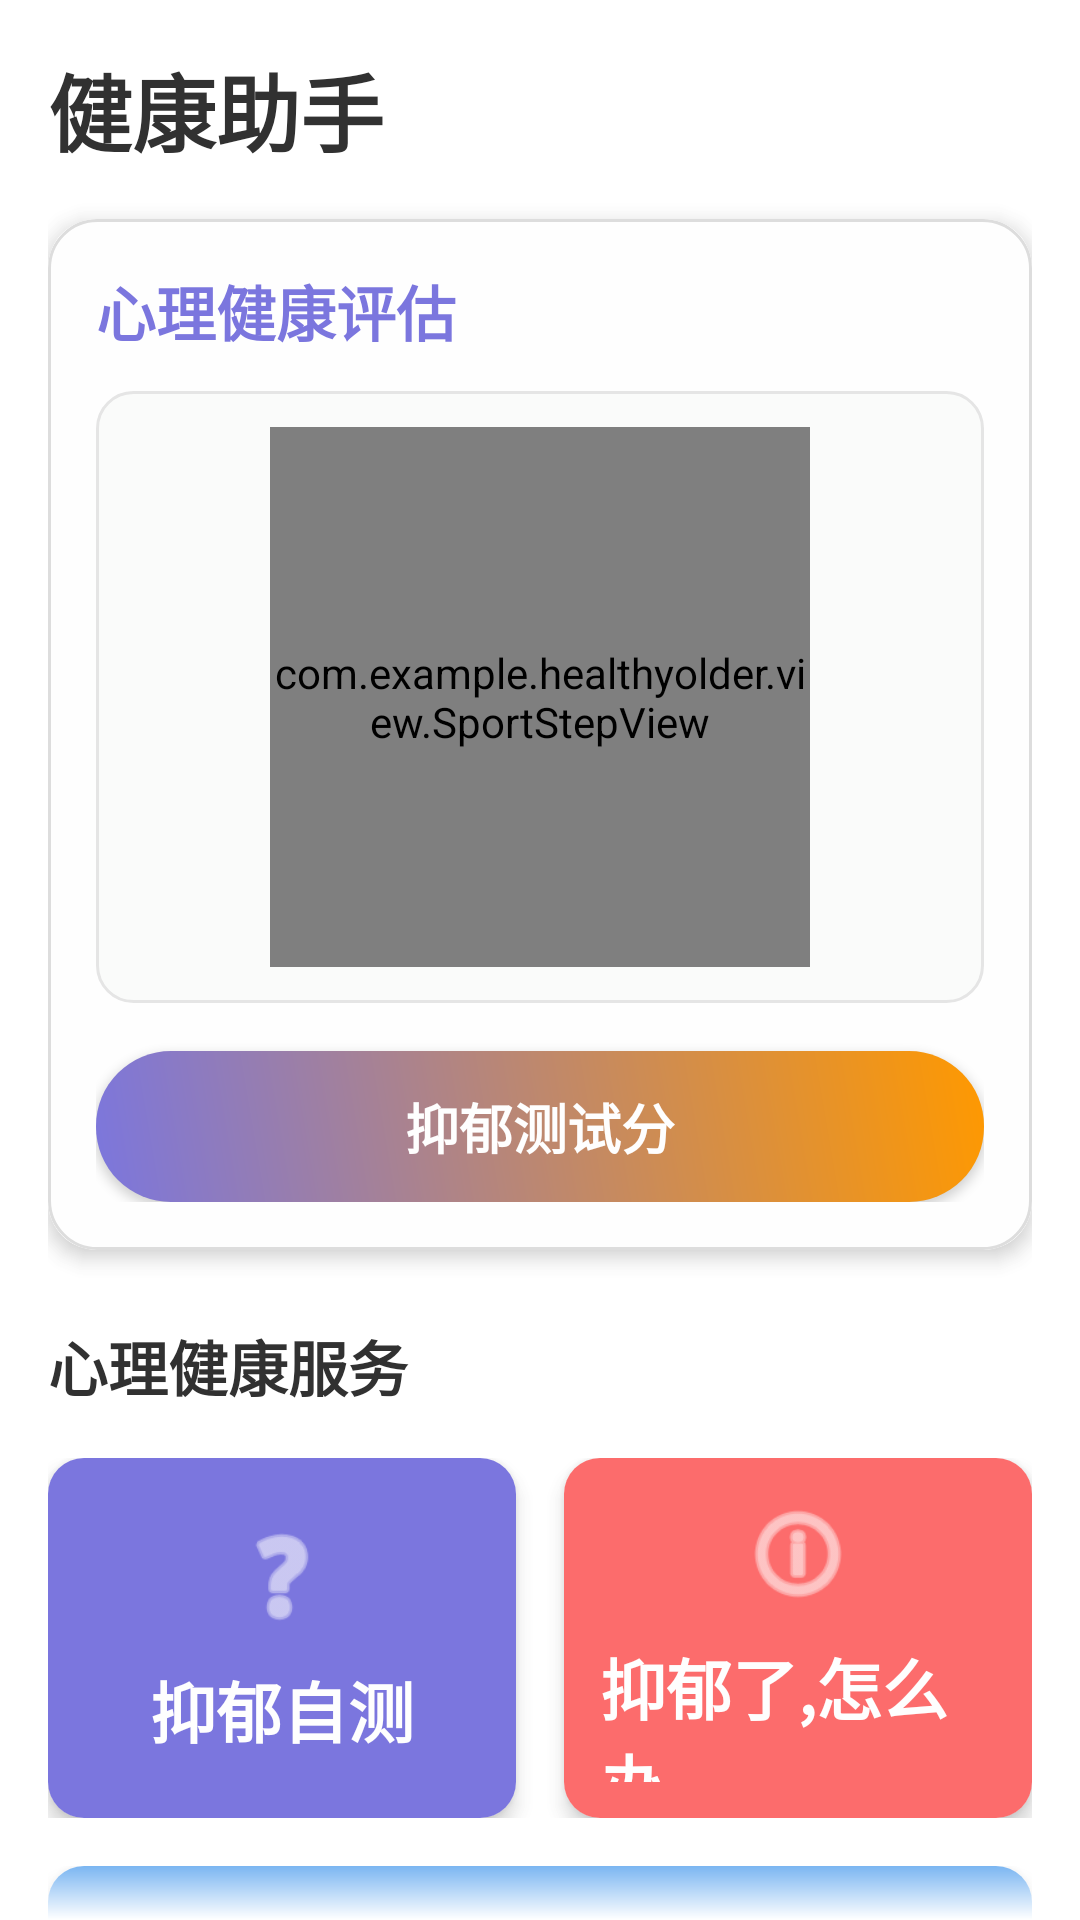

Icons on this 1080 × 1920 Android screen, each with the point to tap as [x,y]:
help: [282,1577]
info details: [798,1554]
